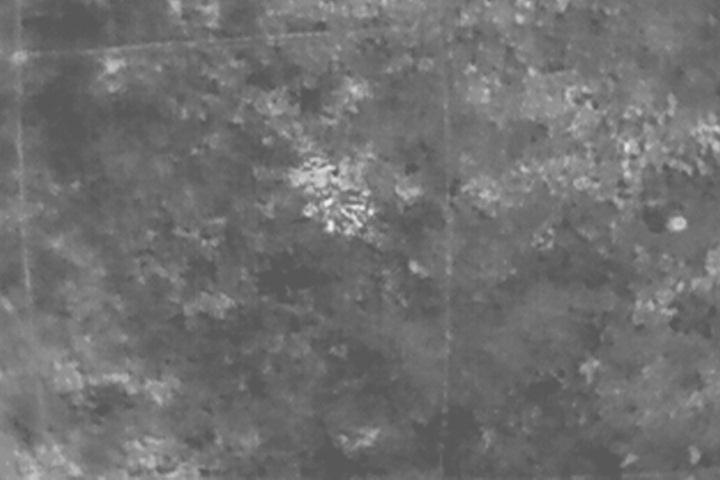landmine: (293, 156, 376, 236)
